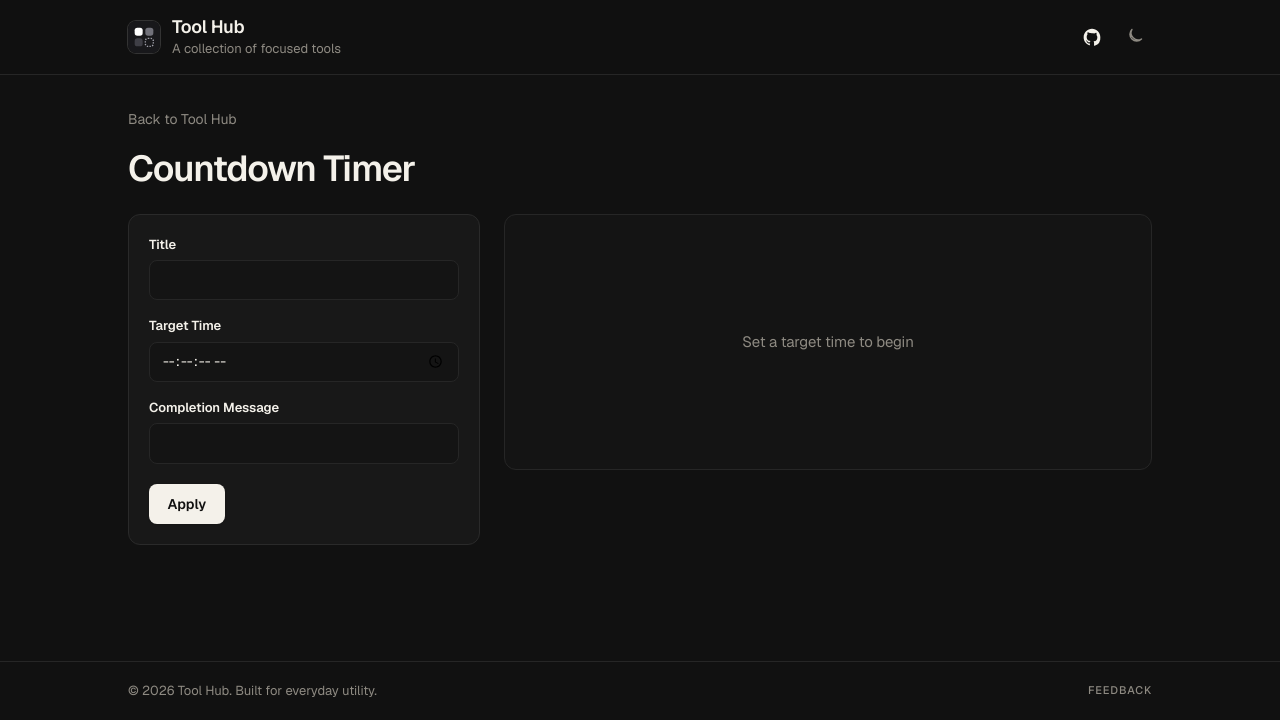
Test case: Countdown Timer › rejects a missing Target Time
Click the button "Apply": (187, 504) [149,484,225,524]
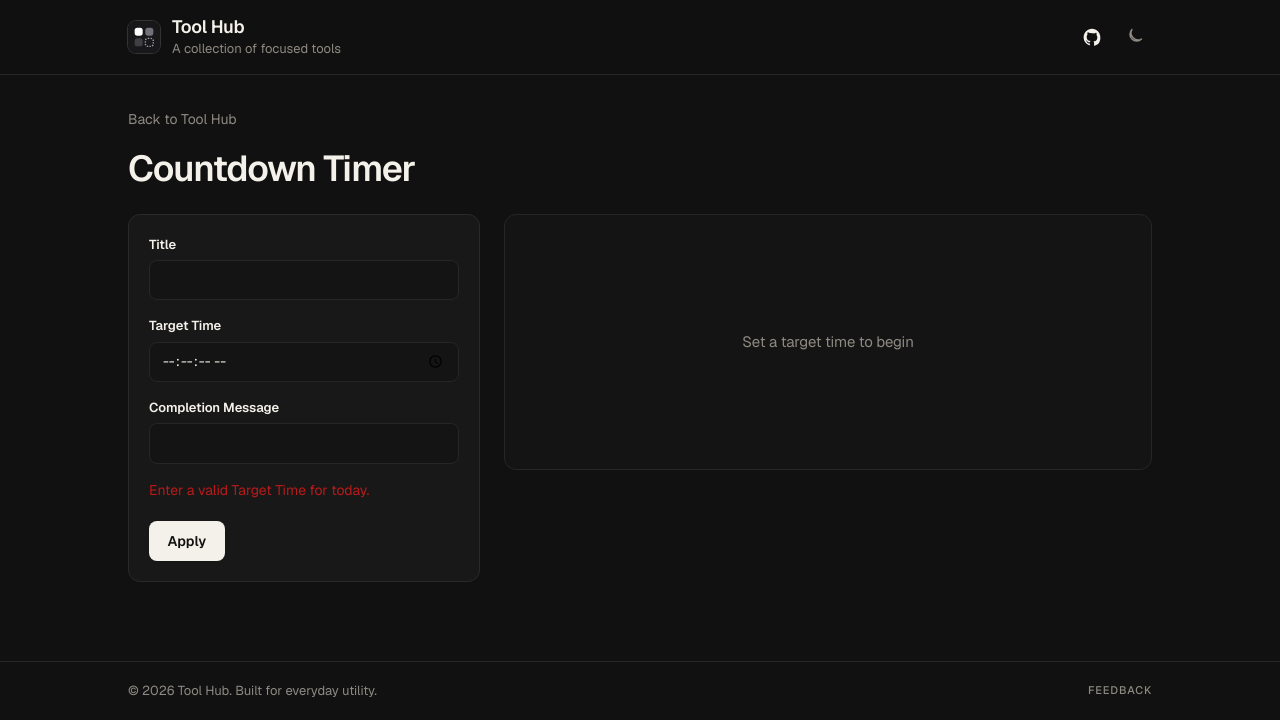
expect the message shows "Enter a valid Target Time": met, box [149,481,369,499]
